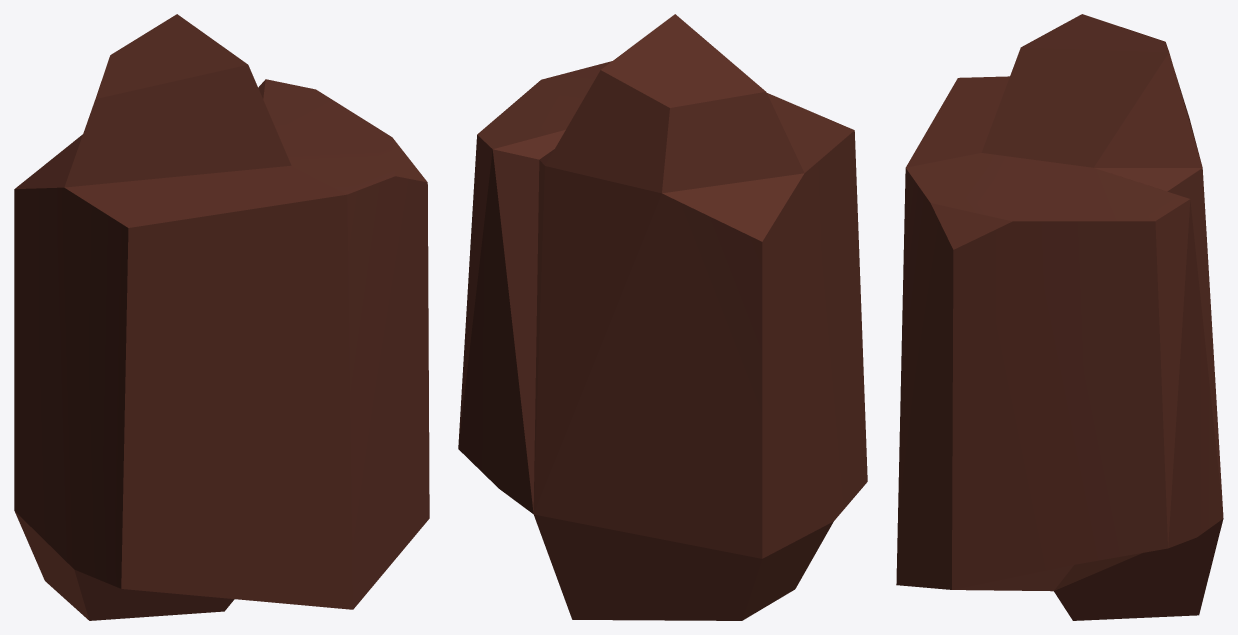
Rendered from entity108620.glb.
3 renders of one model, left to right at view 1: azimuth 30°, elevation 25°; view 2: azimuth 150°, elevation 25°; view 3: azimuth 270°, elevation 25°, orthographic. The views are drawn at different scales.
Visible parts, largest first — view 1: node_SM_Env_Rock_05 (4); view 2: node_SM_Env_Rock_05 (4); view 3: node_SM_Env_Rock_05 (4).
Part boxes in pixels (<box>): node_SM_Env_Rock_05 (4): <box>14,14,429,620</box>; node_SM_Env_Rock_05 (4): <box>458,14,867,620</box>; node_SM_Env_Rock_05 (4): <box>896,14,1223,620</box>.
Size of the model in its own units: 5.17 by 8.9 by 4.61.
1 material, 1 textured.
